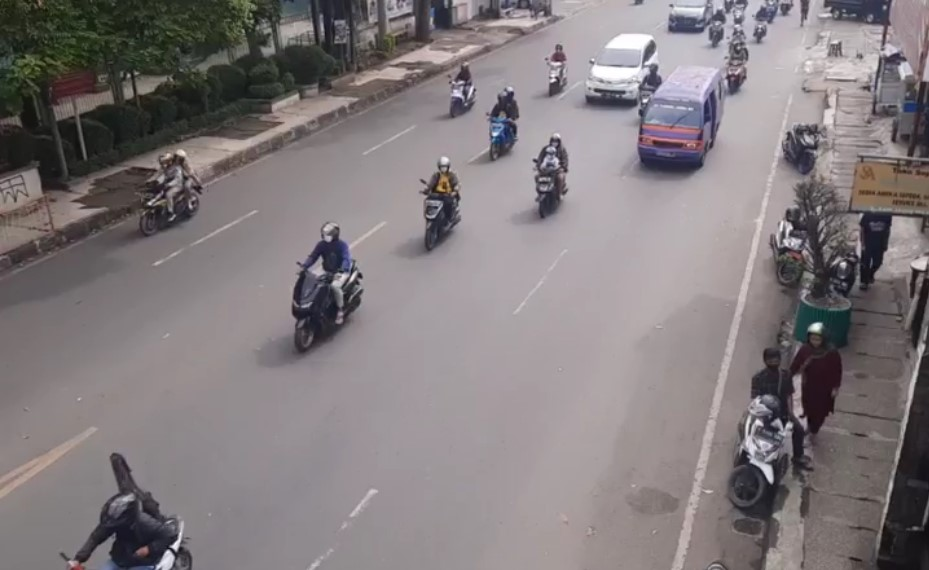motor: (297, 222, 362, 344), (134, 150, 204, 224), (416, 154, 466, 240), (531, 134, 572, 212), (486, 88, 518, 158), (442, 60, 480, 110)
